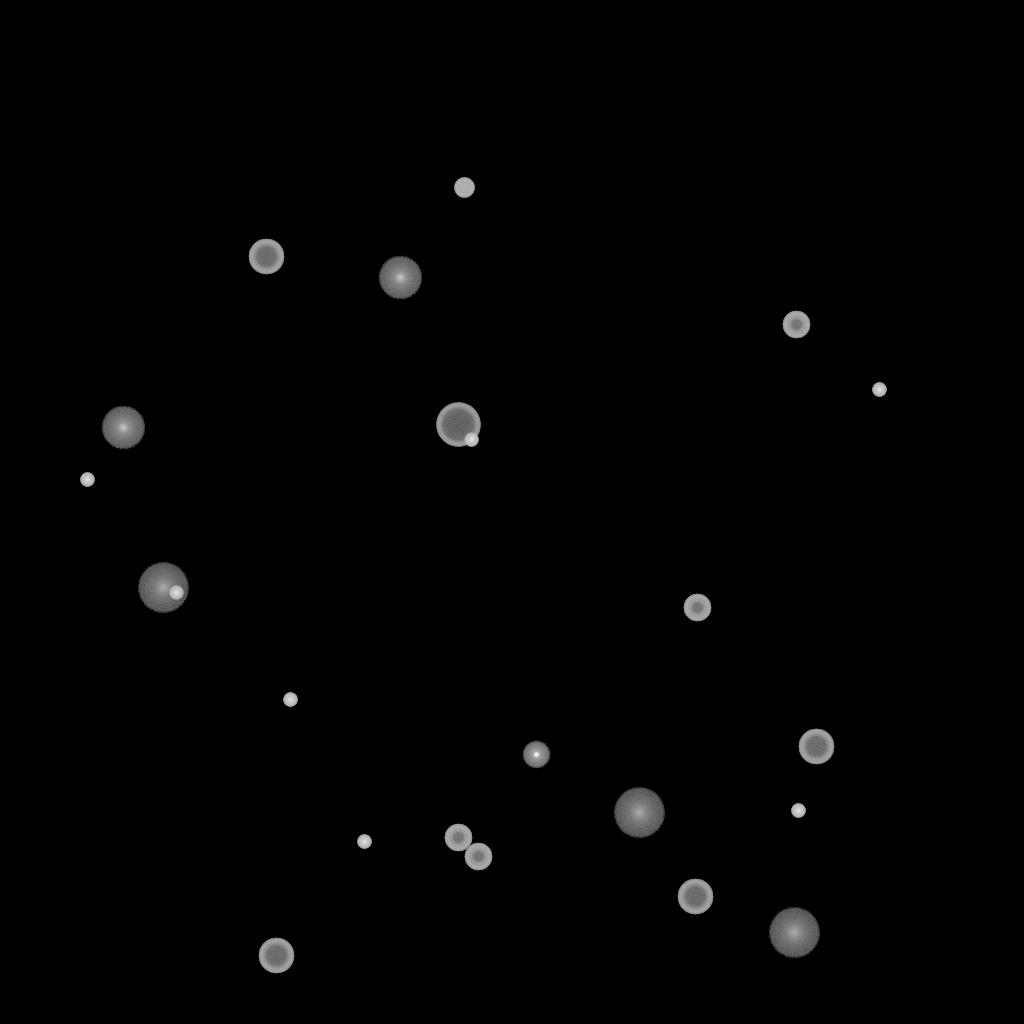depth:-10: (522, 741, 550, 769)
depth:-30: (791, 804, 805, 818), (283, 693, 297, 707), (464, 433, 478, 447), (169, 586, 183, 600), (357, 835, 371, 849), (80, 473, 94, 487), (872, 383, 886, 397)
depth:-40: (454, 178, 474, 198)
depth:-50: (683, 594, 711, 622), (464, 843, 492, 871), (444, 824, 472, 852), (782, 311, 810, 339)
depth:-60: (248, 239, 284, 275), (798, 729, 834, 765), (258, 938, 294, 974), (677, 879, 713, 915)
depth:-70: (436, 403, 480, 447)
depth:10: (101, 406, 145, 450), (378, 256, 422, 300)
depth:20: (768, 908, 820, 958), (613, 788, 665, 838), (137, 563, 189, 613)
